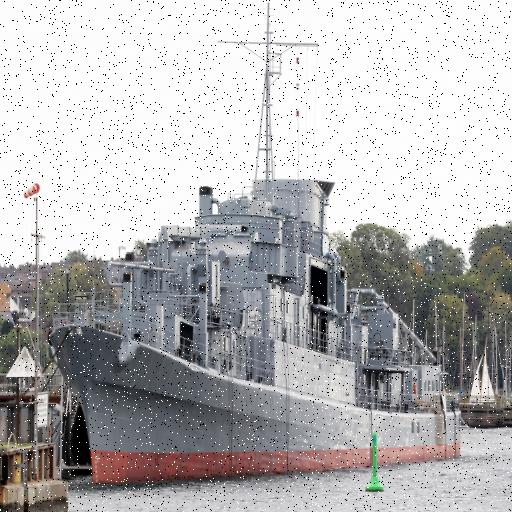Fragata: (43, 1, 467, 496)
